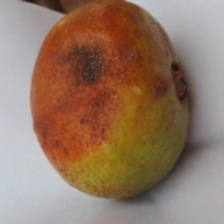guava: (34, 43, 195, 181)
